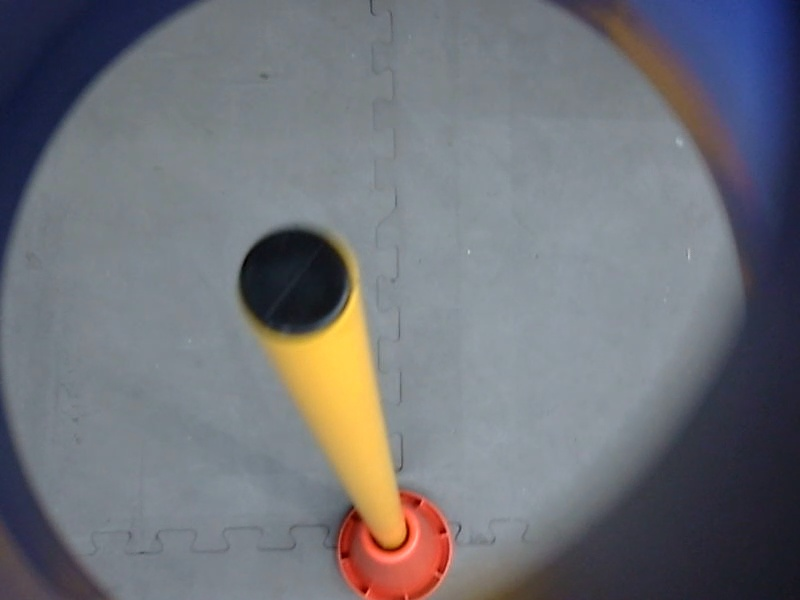tip: (226, 216, 367, 349)
